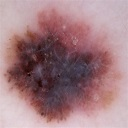Melanoma: (9, 35, 106, 99)
